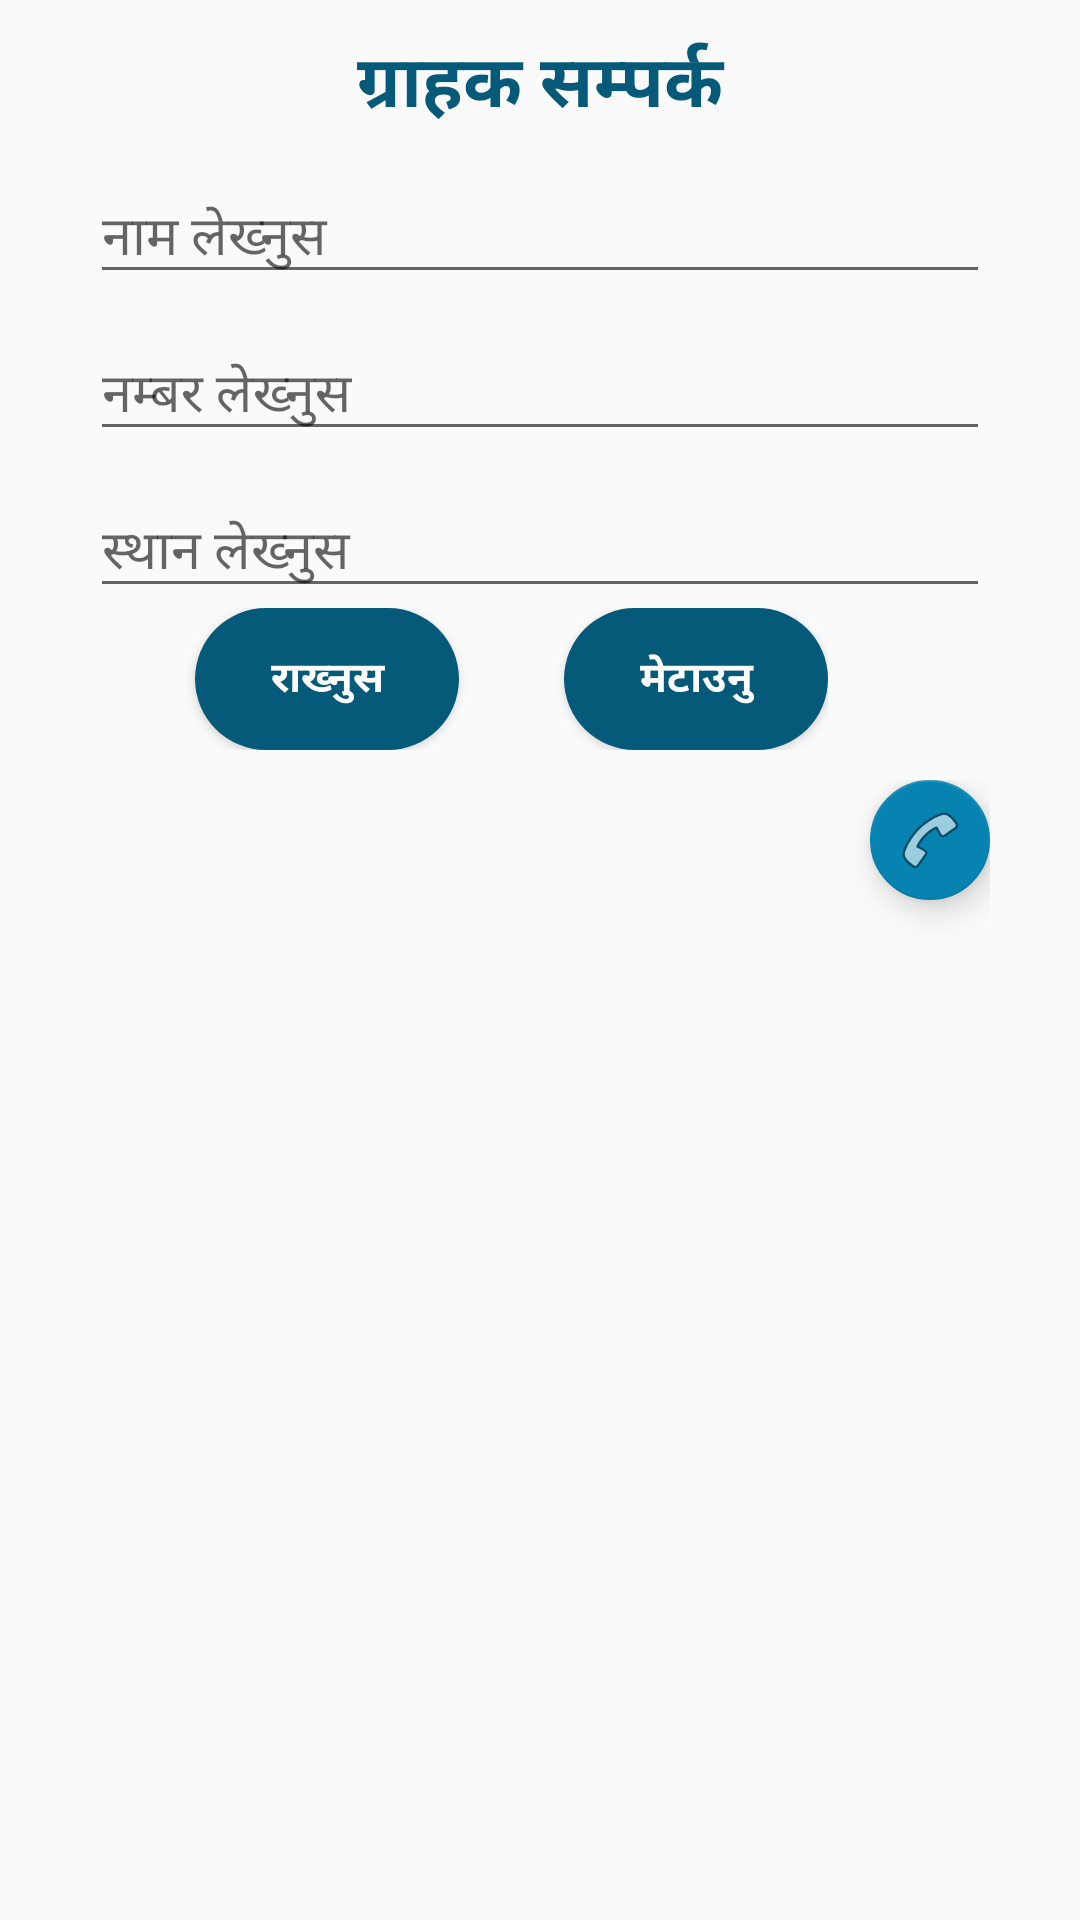

Named icons in this screenshot (1080w x 1920h) and their bounding boxes, (x1, y1, x2, y2):
call: (870, 780, 990, 900)
